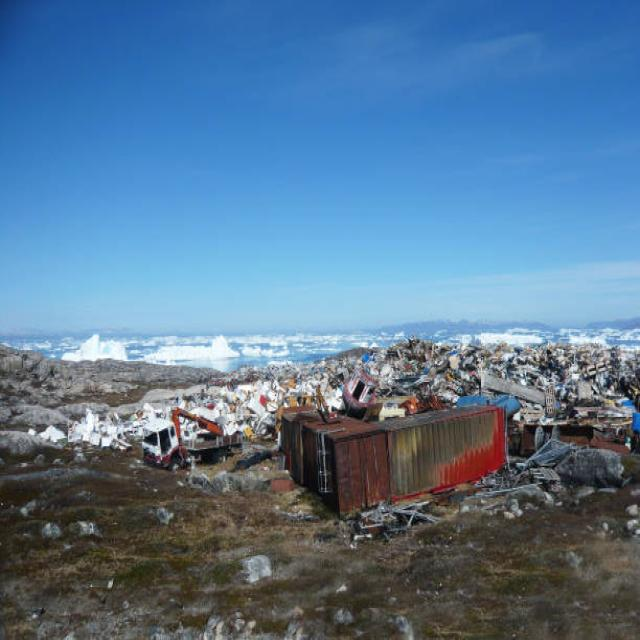metal: (274, 414, 518, 531)
trash: (98, 348, 611, 422)
